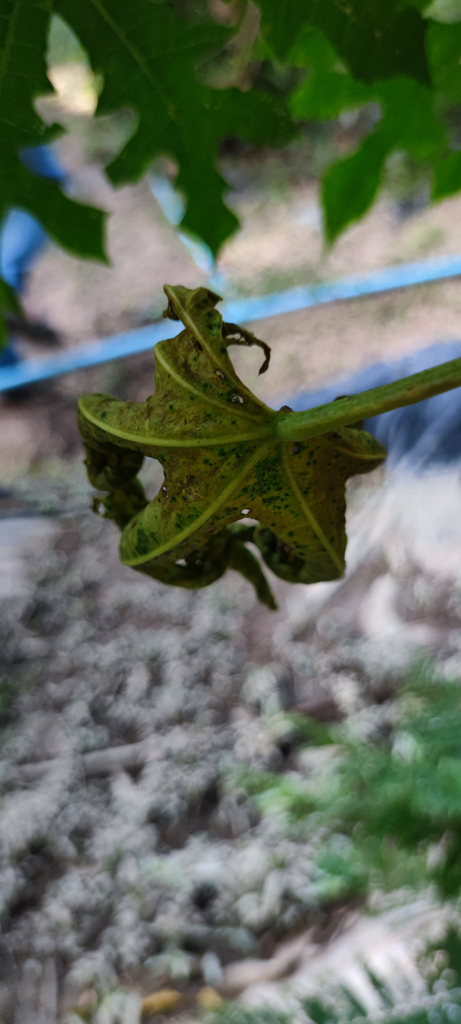Alternaria brassicicola: (63, 292, 375, 596)
